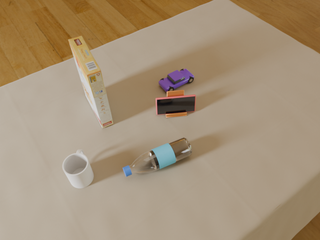bottle: (123, 137, 192, 177)
box: (68, 36, 113, 128)
cup: (63, 149, 94, 188)
phone: (156, 95, 196, 115)
toy_car: (159, 69, 194, 92)
